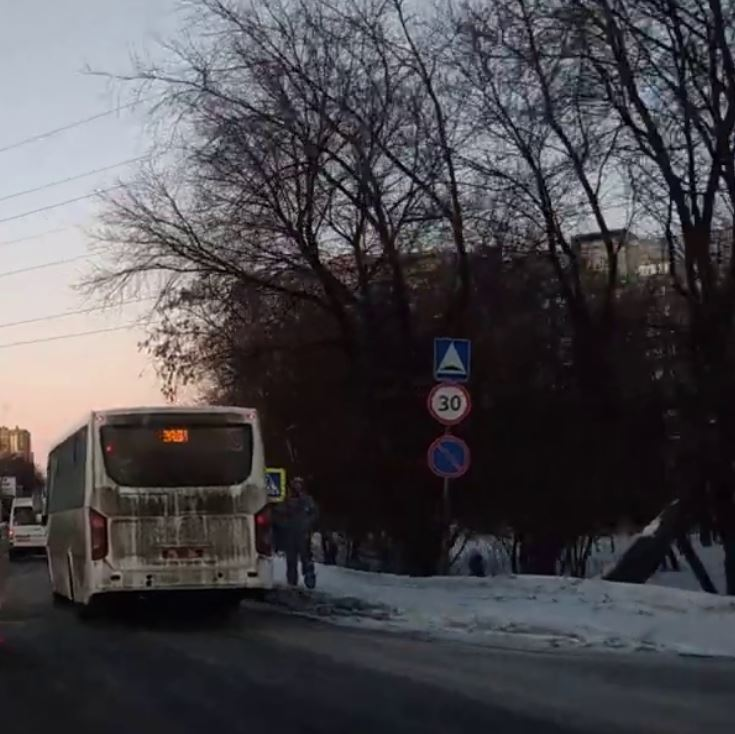30 Km Hiz Siniri: (430, 380, 478, 428)
